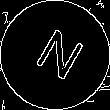N_SW: (25, 23, 85, 87)
